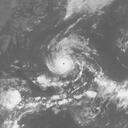cyclone: (44, 43, 76, 77)
